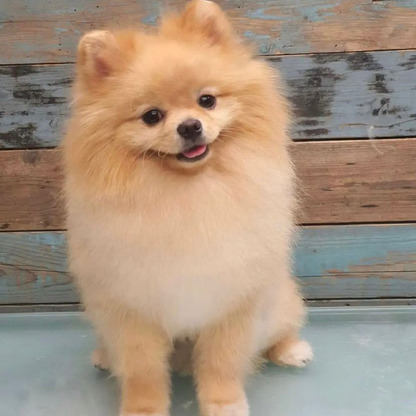Pomeranian: (54, 18, 328, 408)
